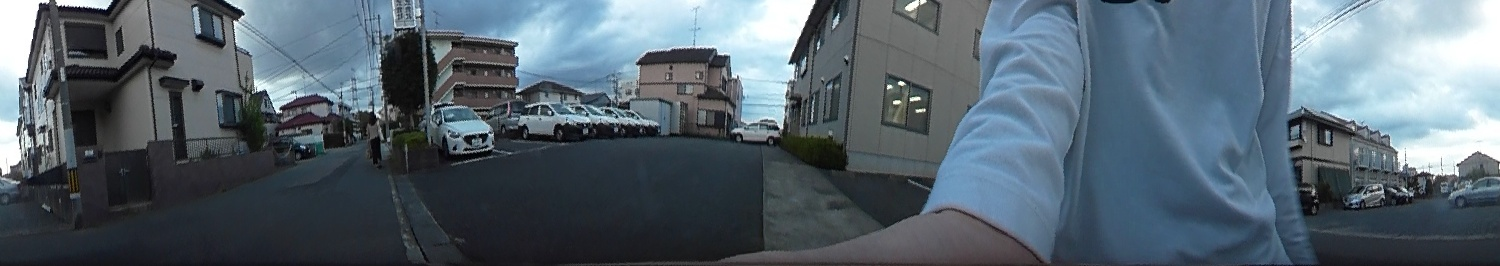difficult_person: (365, 108, 384, 164)
